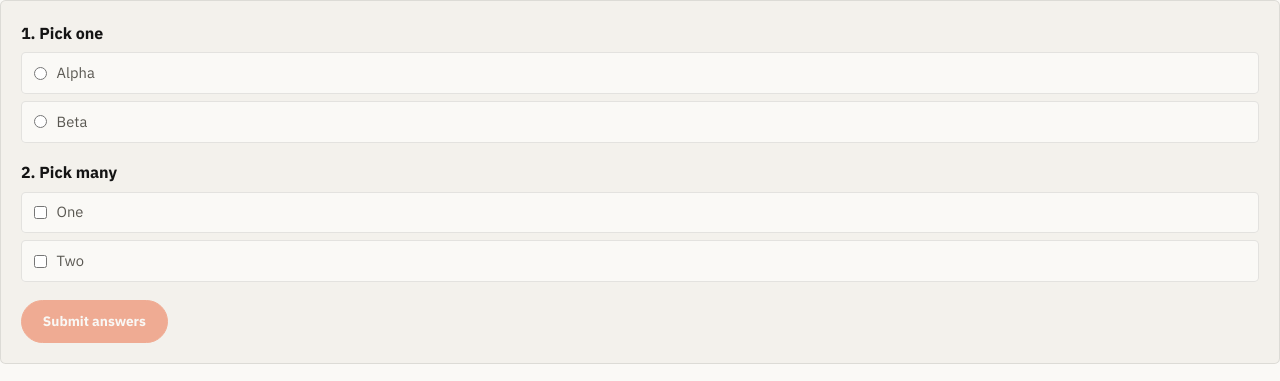
Test: LearnerQuizPart › keeps submit disabled until every question is answered
Check: the button "Submit answers" is disabled, box top-left (21, 300), bottom-right (168, 343)
Click the radio button labelled "Alpha" at (40, 73), box top-left (34, 66), bottom-right (47, 80)
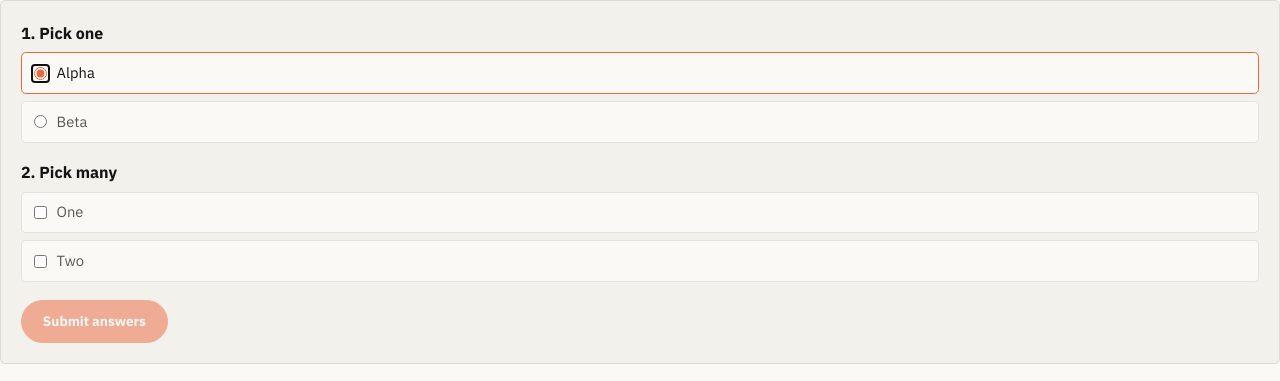
Check: the button "Submit answers" is disabled, box top-left (21, 300), bottom-right (168, 343)
Click the checkbox labelled "One" at (40, 212), box top-left (34, 206), bottom-right (47, 219)
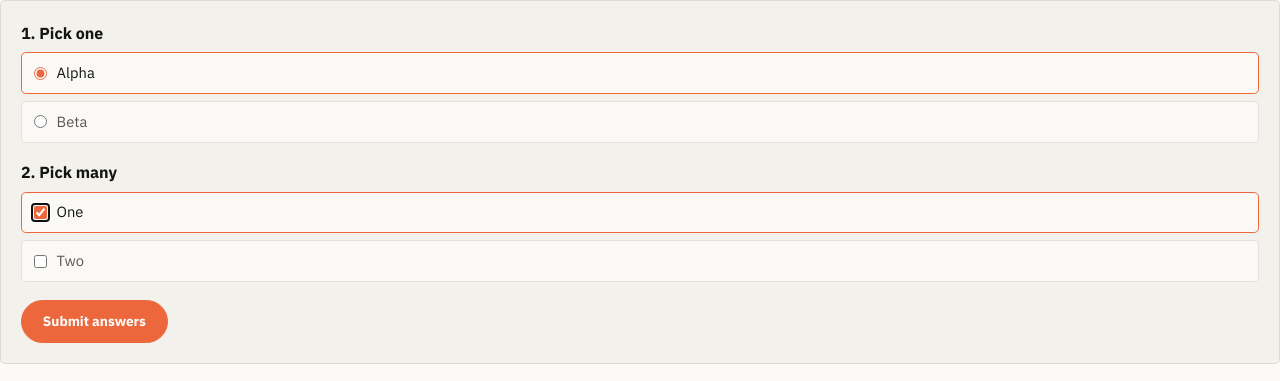
Check: the button "Submit answers" is enabled, box top-left (21, 300), bottom-right (168, 343)
